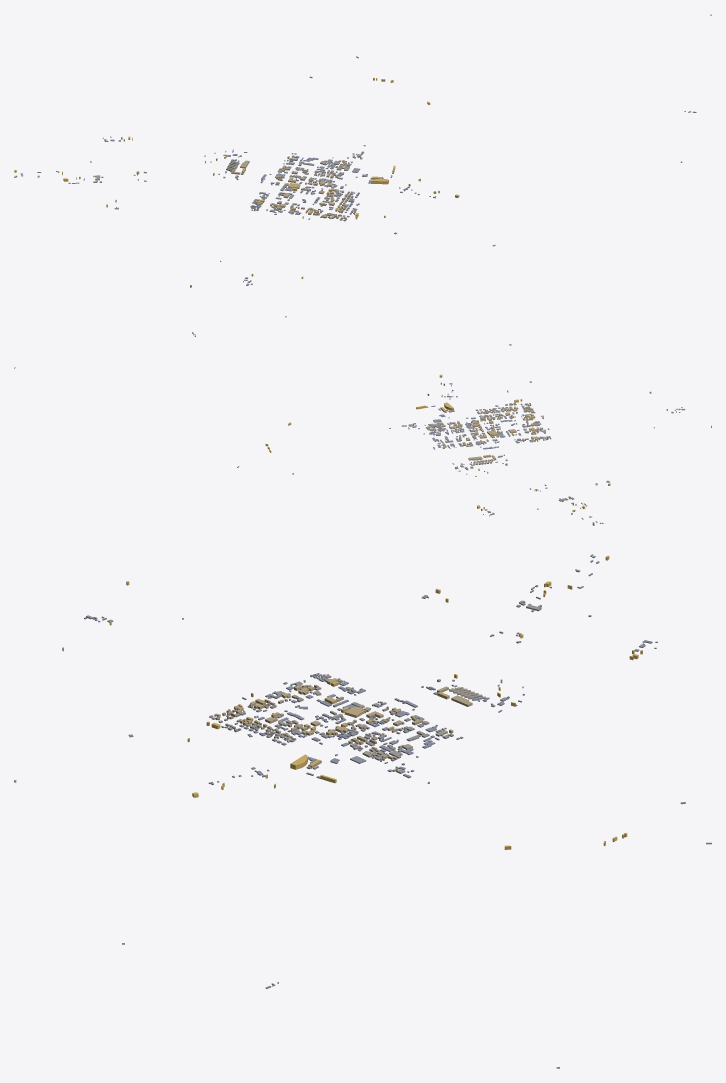
File: buildings.glb
3 renders of one model, top to bottom at view 1: azimuth 30°, elevation 25°; view 2: azimuth 150°, elevation 25°; view 3: azimuth 270°, elevation 25°, orthographic. The views are drawn at different scales.
Visible parts, largest first — view 1: buildings; view 2: buildings; view 3: buildings.
Boxes of the visible parts, bbox=[...] form: buildings: bbox=[14, 14, 711, 287]; buildings: bbox=[14, 316, 711, 525]; buildings: bbox=[14, 554, 711, 1068].
Size of the model in its own units: 2698 by 37.22 by 1536.
